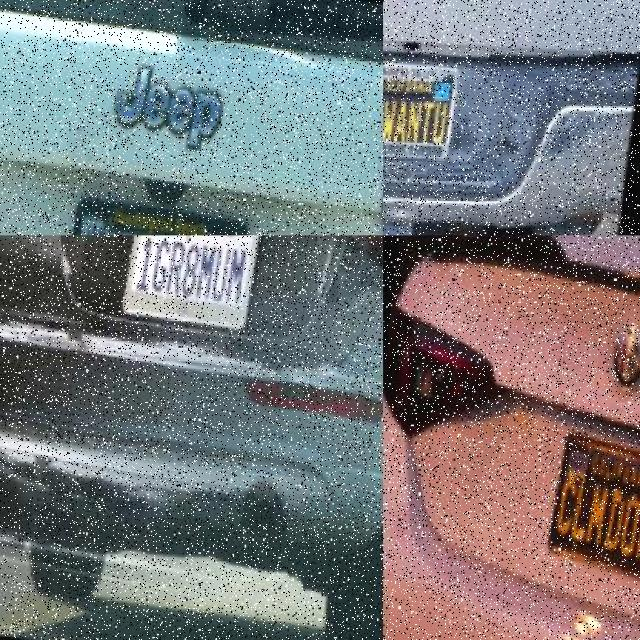licenseplate: (543, 431, 640, 580), (114, 235, 260, 332), (46, 190, 249, 236), (383, 52, 457, 166)
